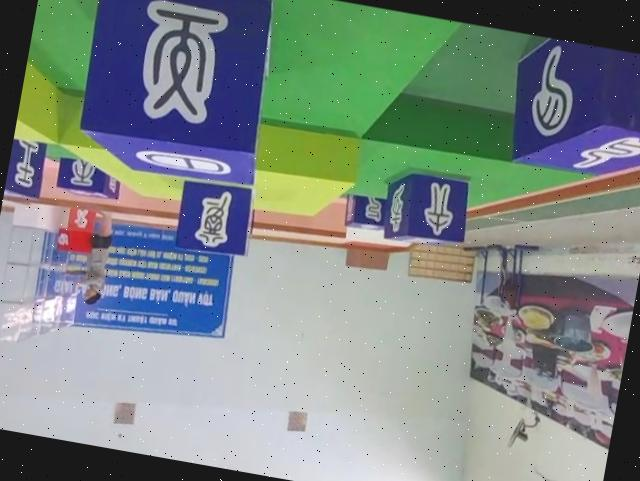R2 Fake Blue: (68, 0, 283, 194), (501, 32, 640, 183), (381, 167, 477, 254), (171, 173, 259, 257), (52, 153, 123, 201), (3, 135, 48, 202), (340, 191, 390, 233)
